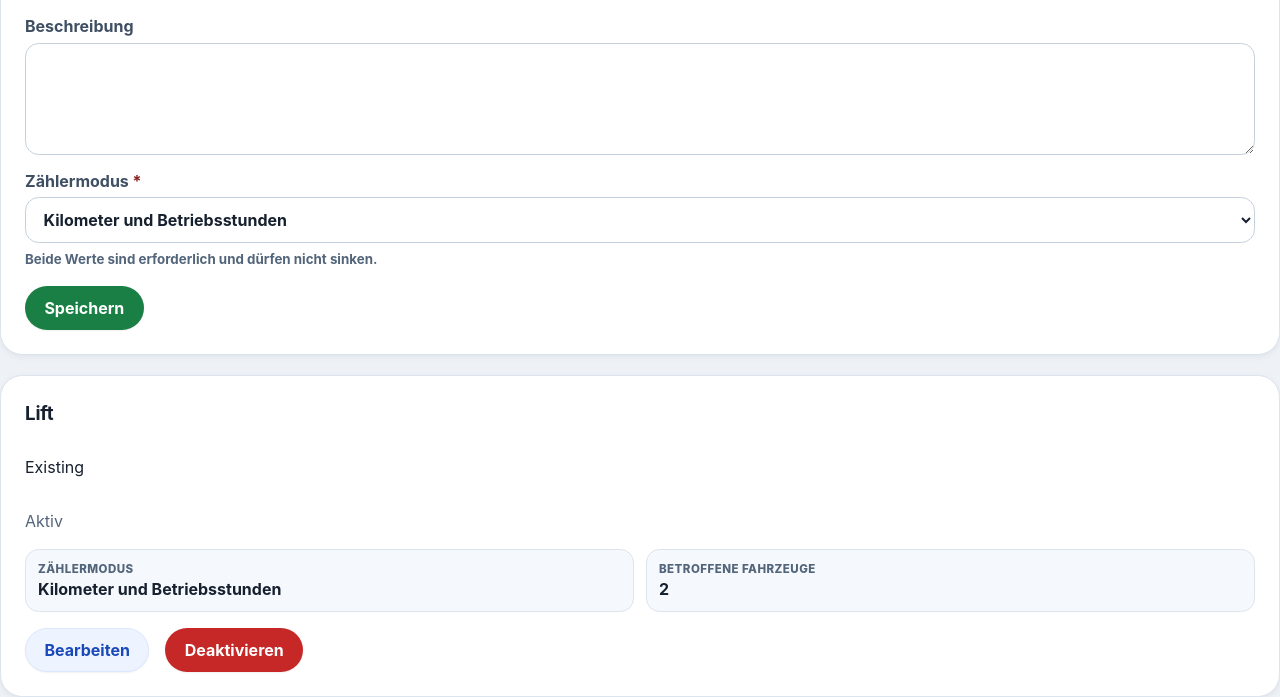
Test case: CategoryManagementPage › confirms category deactivation and announces success
The width and height of the screenshot is (1280, 697).
(page scrolled)
Click the button "Deaktivieren".
click(234, 650)  # box 165,628 -> 303,672
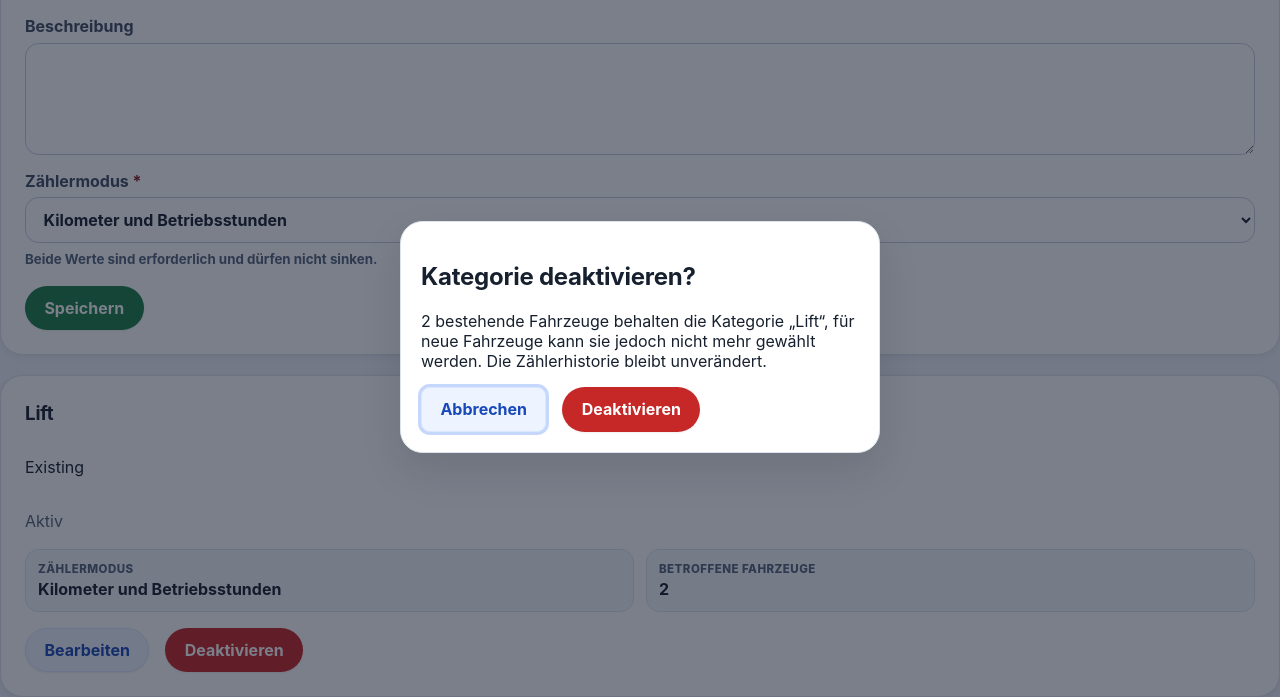
Click the button "Deaktivieren".
click(631, 409)  # box 562,387 -> 700,432
(page scrolled)
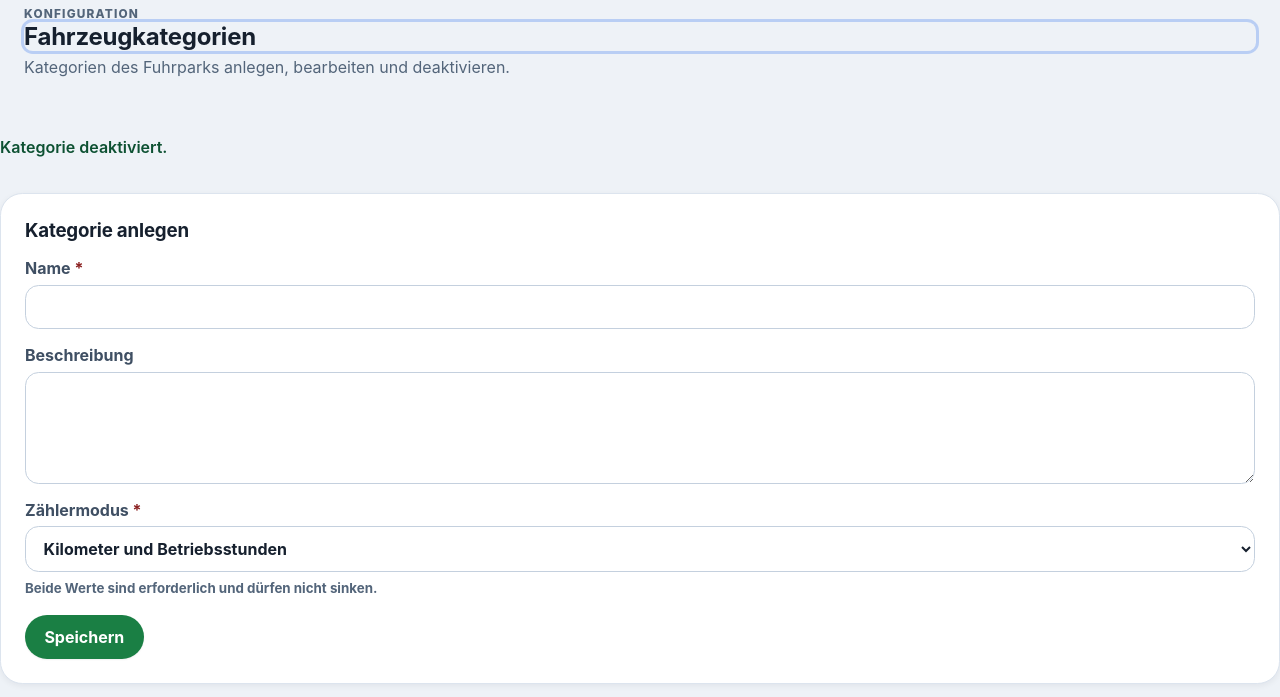
Check: the message shows "Kategorie deaktiviert", box 0,137 -> 167,157
